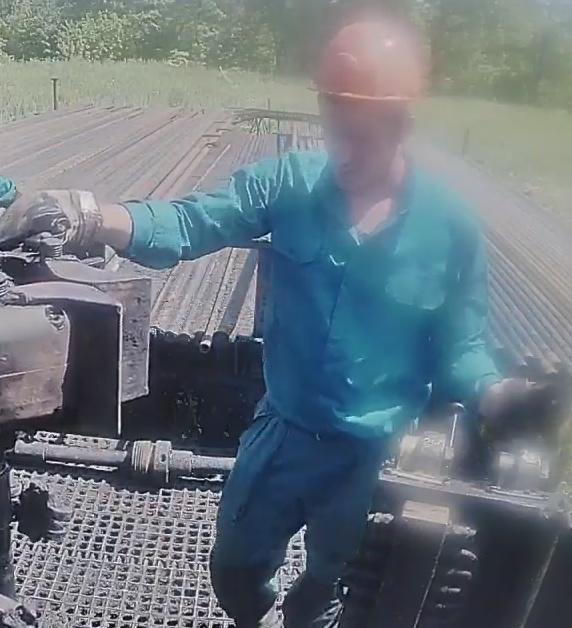gloves: (469, 359, 568, 450), (1, 186, 120, 261)
helmet: (308, 18, 425, 114)
vest: (229, 155, 488, 435)
